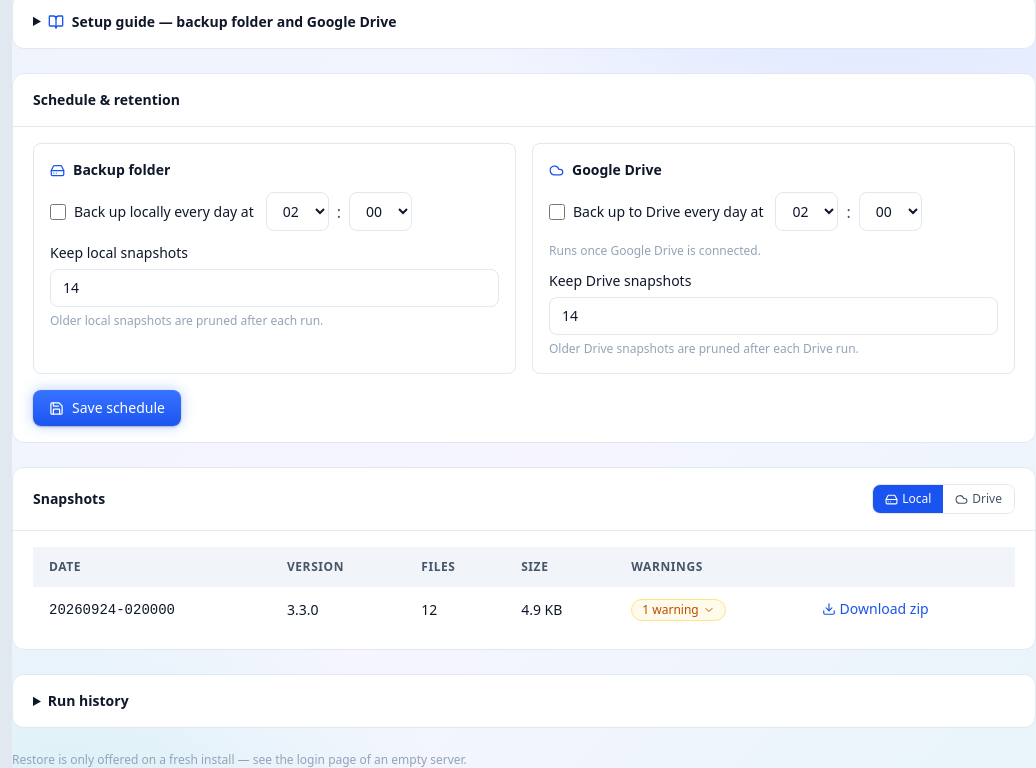
Test: BackupTab › a snapshot's warnings open to say which file and why, fetched from the snapshot shown
(page scrolled)
Click the button "1 warning" at (678, 610), box [631,599,726,621]
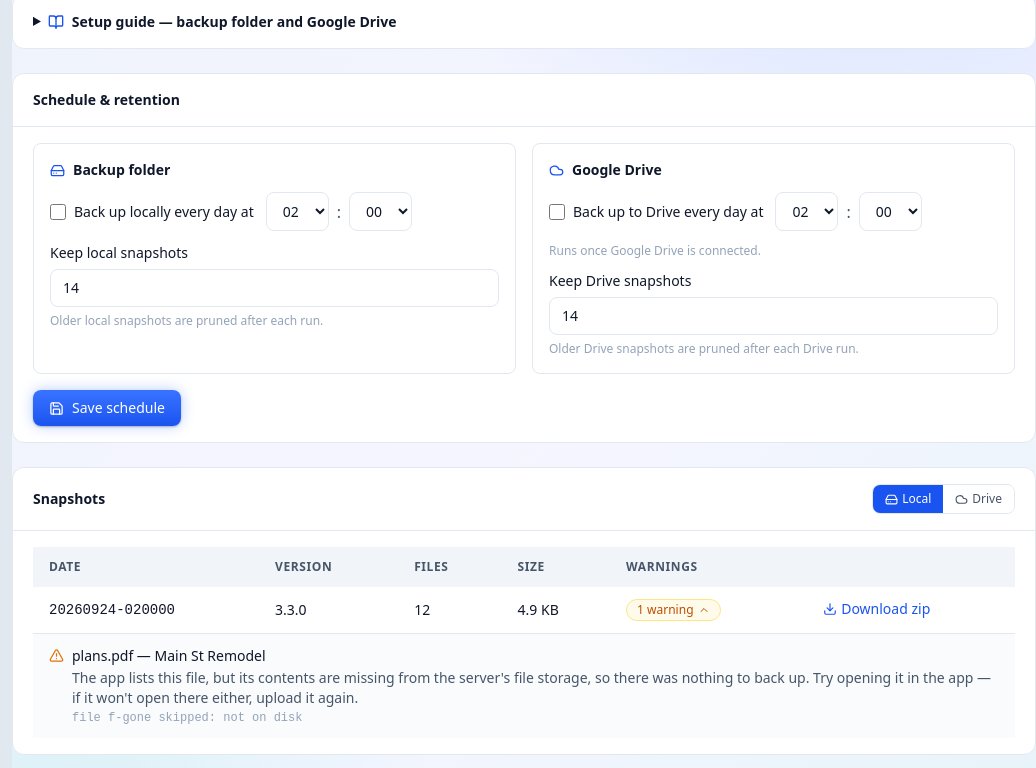
expect the text "plans.pdf — Main St Remodel" is shown: met, box [72,646,266,665]
expect the text "contents are missing from the server's file storage" is shown: met, box [72,668,991,707]
expect the text "file f-gone skipped: not on disk" is shown: met, box [72,711,302,725]
Click the button "1 warning" at (673, 610), box [626,599,720,621]
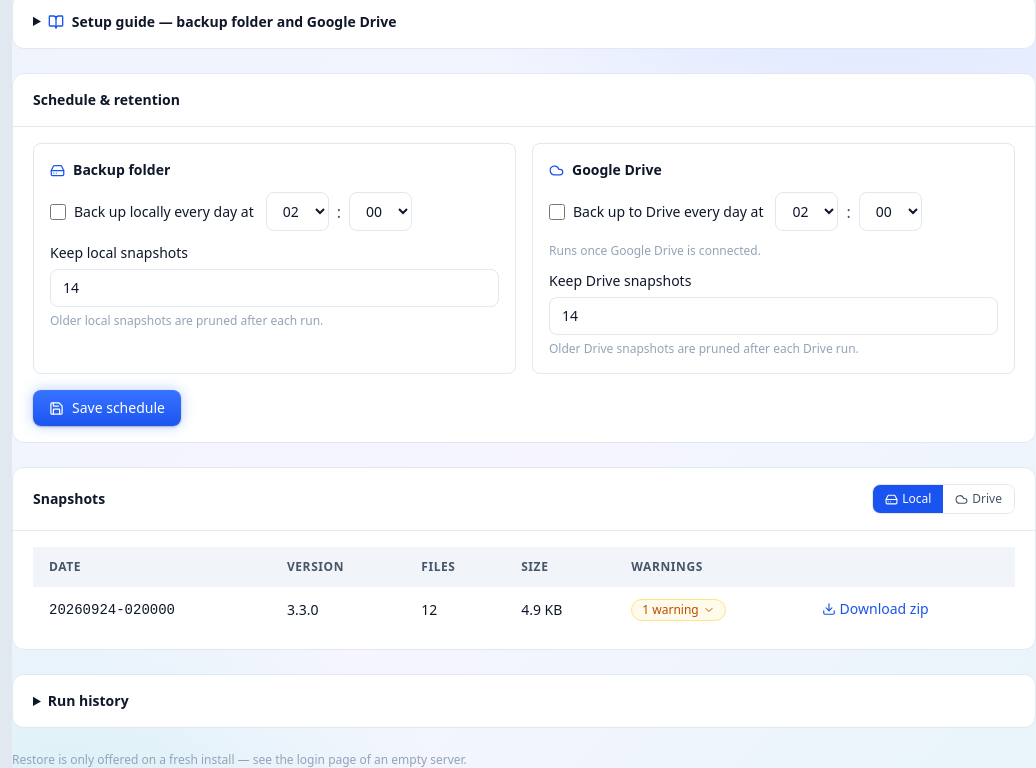
expect the text "plans.pdf — Main St Remodel" is gone: met
